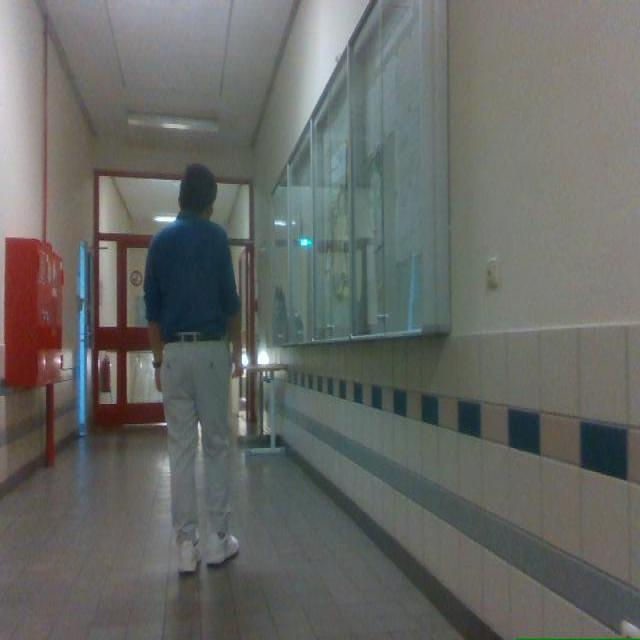humans: (144, 164, 240, 573)
